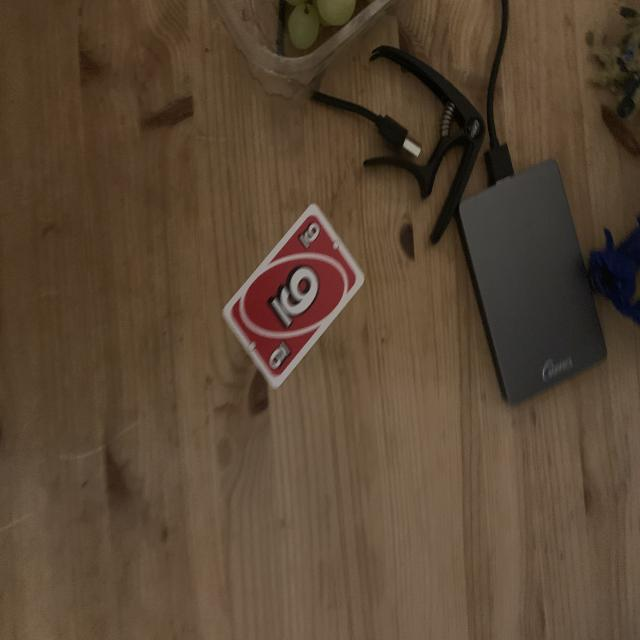lred-9: (296, 218, 324, 252)
